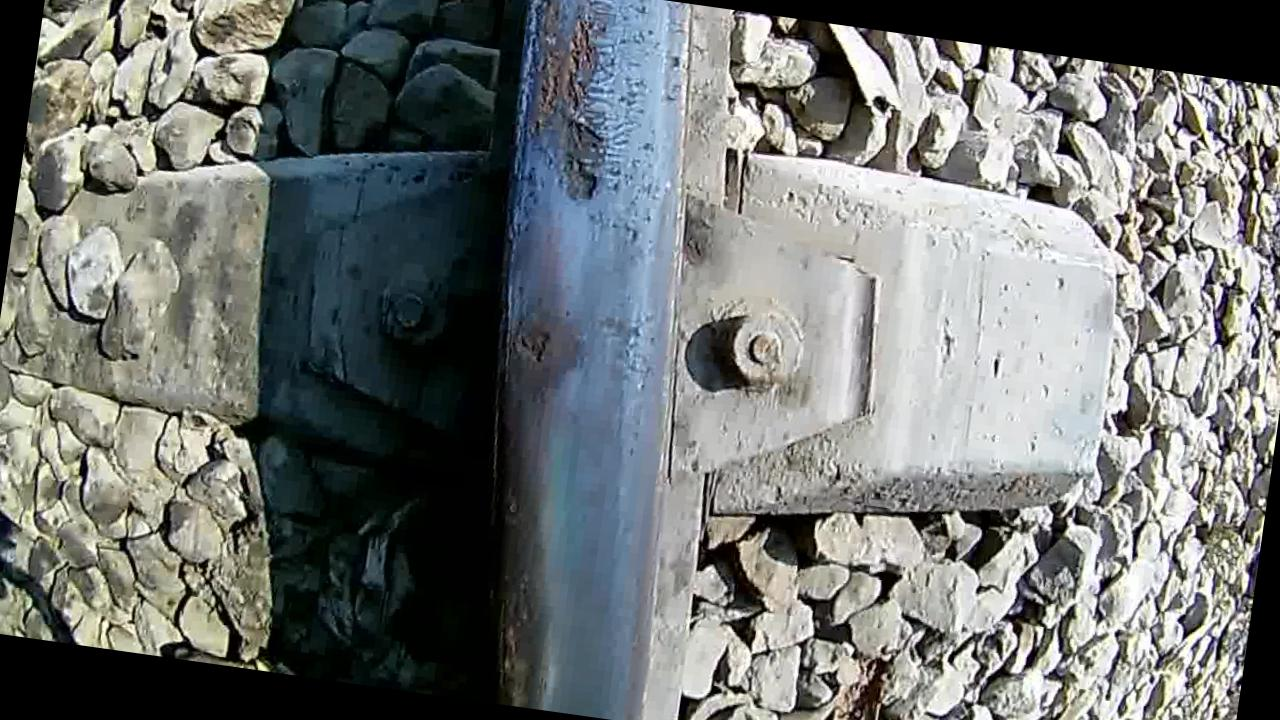crack: (427, 0, 707, 719)
